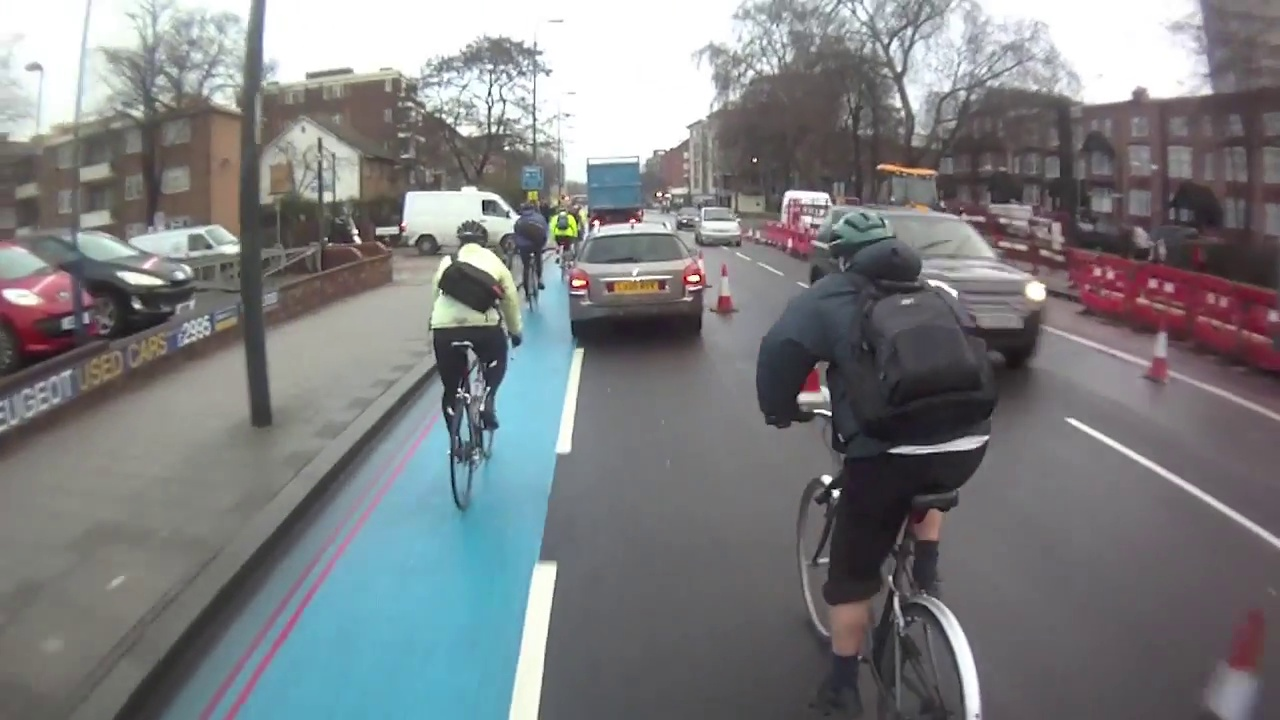cyclist_back: (752, 195, 1007, 707), (424, 198, 522, 513), (510, 189, 549, 310), (547, 191, 582, 287)
